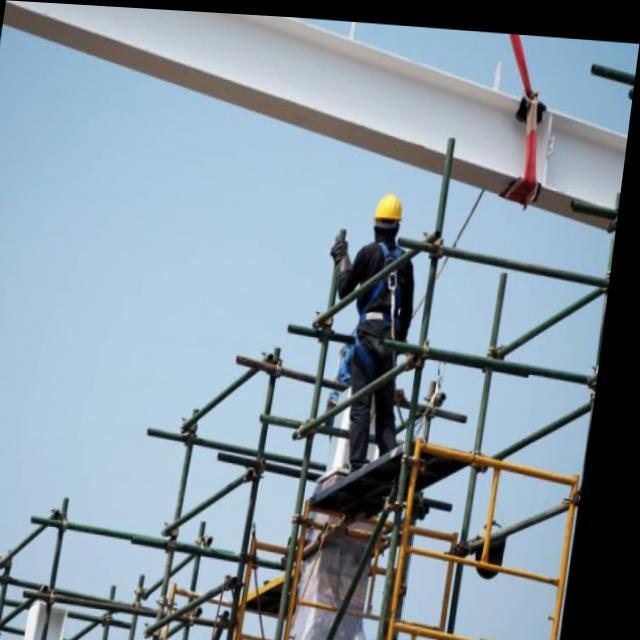belt: (354, 236, 419, 374)
